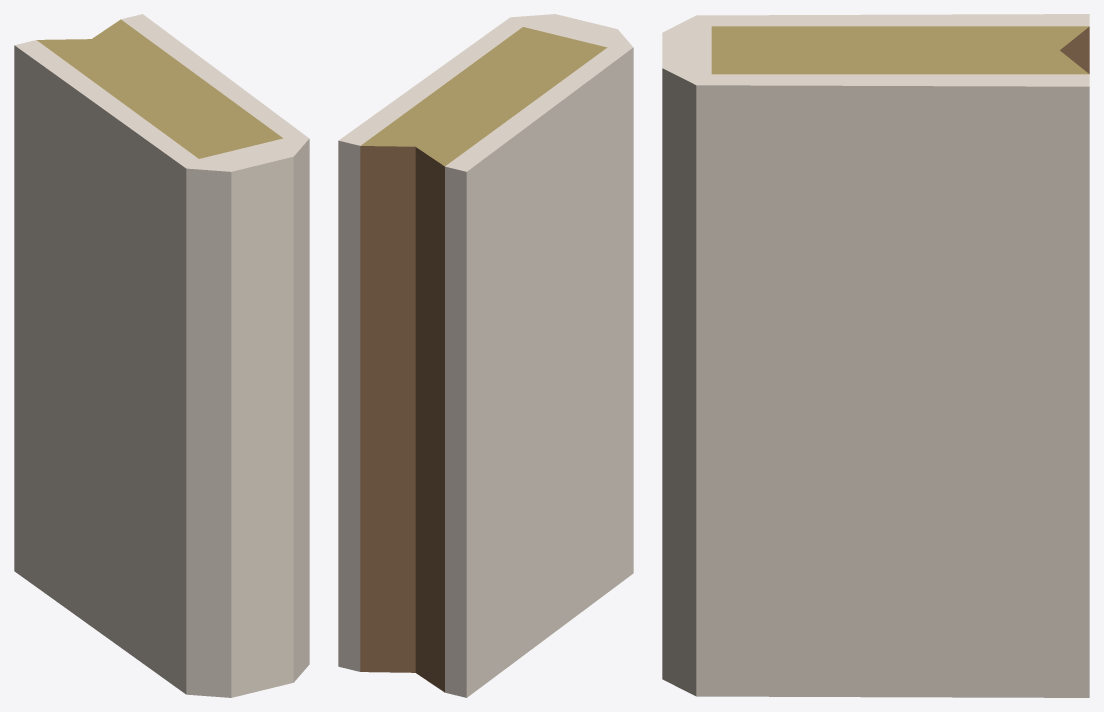
File: TB_D_Prop_Book_Big_D.FBX
3 views of the same model, side by side, from view 1: azimuth 30°, elevation 25°; view 2: azimuth 150°, elevation 25°; view 3: azimuth 270°, elevation 25° (orthographic). The views are drawn at different scales.
Parts seen in each view (by area): view 1: TB_D_Prop_Book_Big_D; view 2: TB_D_Prop_Book_Big_D; view 3: TB_D_Prop_Book_Big_D.
Part boxes in pixels (bbox=[...]): TB_D_Prop_Book_Big_D: bbox=[14, 14, 309, 697]; TB_D_Prop_Book_Big_D: bbox=[338, 14, 633, 697]; TB_D_Prop_Book_Big_D: bbox=[662, 14, 1089, 697].
Size of the model in its own units: 0.2144 by 0.8401 by 0.5323.
